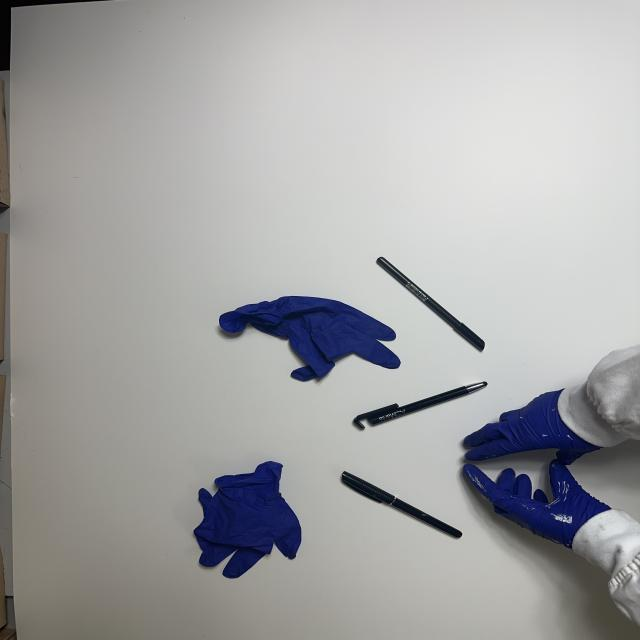gloves_contaminated: (463, 460, 610, 548), (463, 390, 601, 464)
